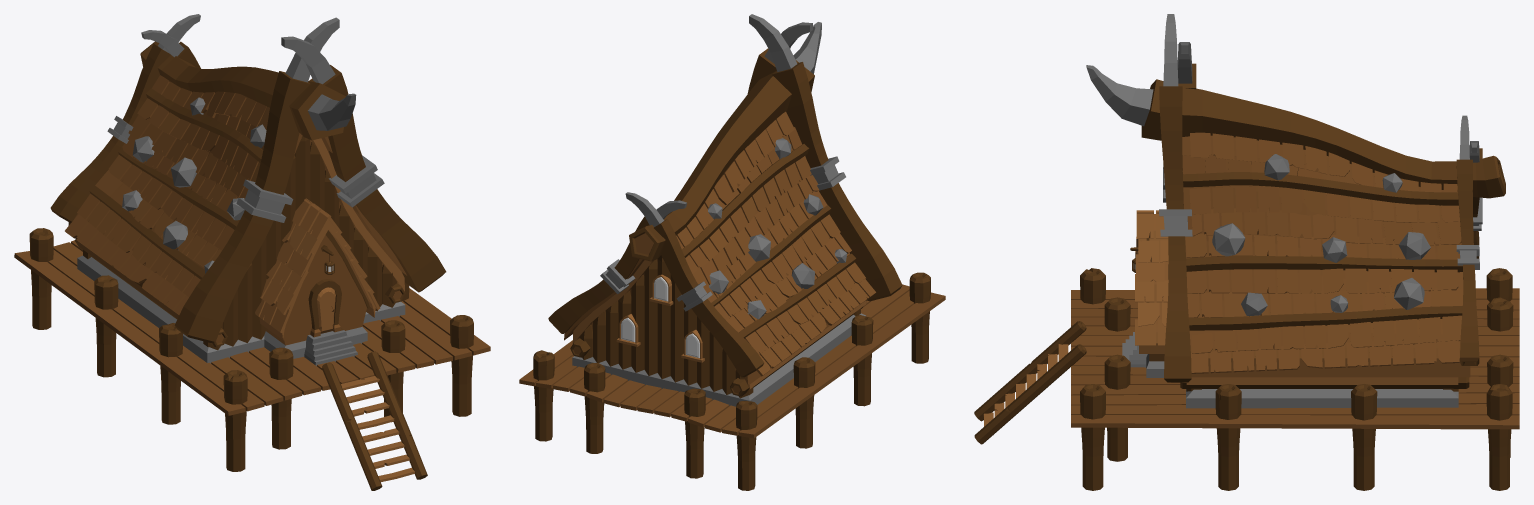
File: A_BaseA.fbx
3 views of the same model, side by side, from view 1: azimuth 30°, elevation 25°; view 2: azimuth 150°, elevation 25°; view 3: azimuth 270°, elevation 25° (orthographic). The views are drawn at different scales.
Parts seen in each view (by area): view 1: A_BaseA; view 2: A_BaseA; view 3: A_BaseA.
Boxes of the visible parts, bbox=[...] form: A_BaseA: bbox=[14, 14, 490, 490]; A_BaseA: bbox=[519, 14, 945, 490]; A_BaseA: bbox=[974, 14, 1519, 490].
Size of the model in its own units: 655 by 923 by 1124.
